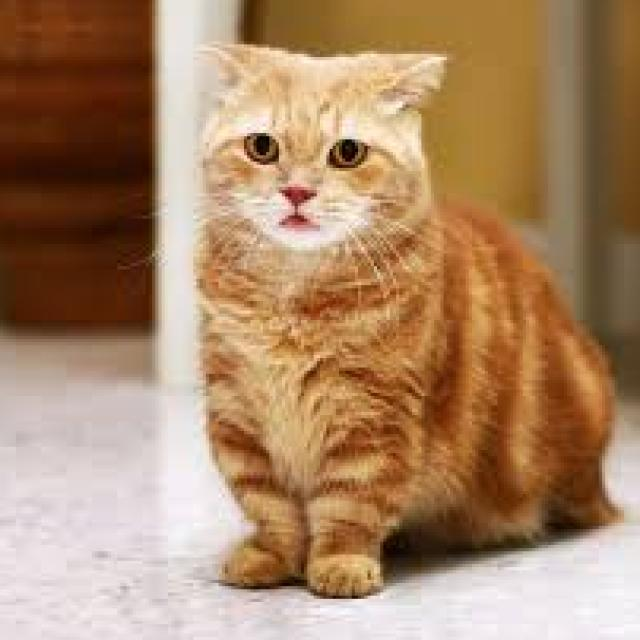Munchkin: (184, 29, 629, 608)
